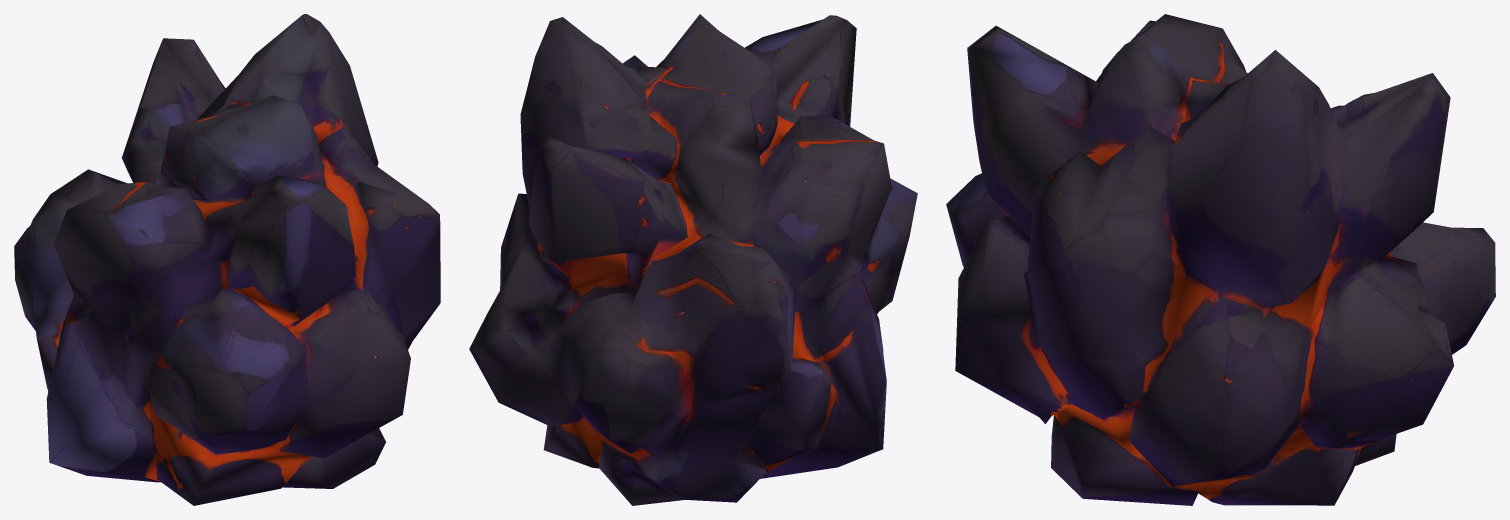
Rendered from deep-obsidian.glb.
3 views of the same model, side by side, from view 1: azimuth 30°, elevation 25°; view 2: azimuth 150°, elevation 25°; view 3: azimuth 270°, elevation 25° (orthographic). The views are drawn at different scales.
Parts seen in each view (by area): view 1: tripo_node_fba124ed-e7aa-4fb3-a076-16ba22eda598; view 2: tripo_node_fba124ed-e7aa-4fb3-a076-16ba22eda598; view 3: tripo_node_fba124ed-e7aa-4fb3-a076-16ba22eda598.
Boxes of the visible parts, left/top/right/bottom form: tripo_node_fba124ed-e7aa-4fb3-a076-16ba22eda598: left=14, top=14, right=440, bottom=505; tripo_node_fba124ed-e7aa-4fb3-a076-16ba22eda598: left=469, top=14, right=917, bottom=505; tripo_node_fba124ed-e7aa-4fb3-a076-16ba22eda598: left=946, top=14, right=1495, bottom=505.
Size of the model in its own units: 0.8904 by 0.9979 by 0.9902.
1 material, 1 textured.
